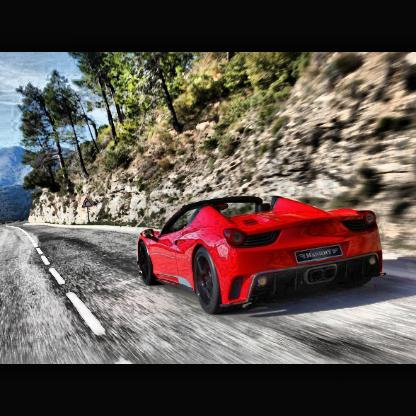Ferrari 458 Italia Convertible 2012: (133, 198, 386, 314)
